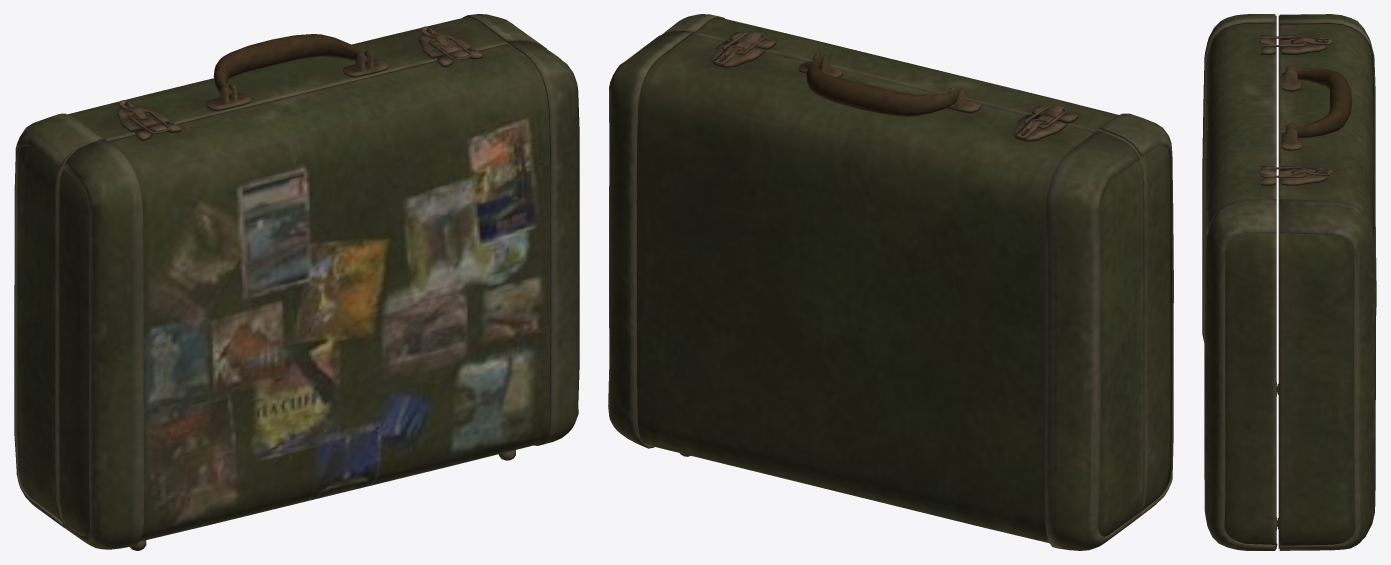
The model's file is vintage_suitcase__b.glb.
3 views of the same model, side by side, from view 1: azimuth 30°, elevation 25°; view 2: azimuth 150°, elevation 25°; view 3: azimuth 270°, elevation 25° (orthographic). The views are drawn at different scales.
Parts seen in each view (by area): view 1: vintage_suitcase_02; view 2: vintage_suitcase_02; view 3: vintage_suitcase_02.
Part boxes in pixels (left/top/right/bottom): vintage_suitcase_02: left=14, top=14, right=579, bottom=550; vintage_suitcase_02: left=608, top=14, right=1173, bottom=550; vintage_suitcase_02: left=1202, top=14, right=1376, bottom=550.
Bounding box in the file's own units: 0.6938 × 0.5675 × 0.2392.
Materials: 1 (1 with a texture image).
